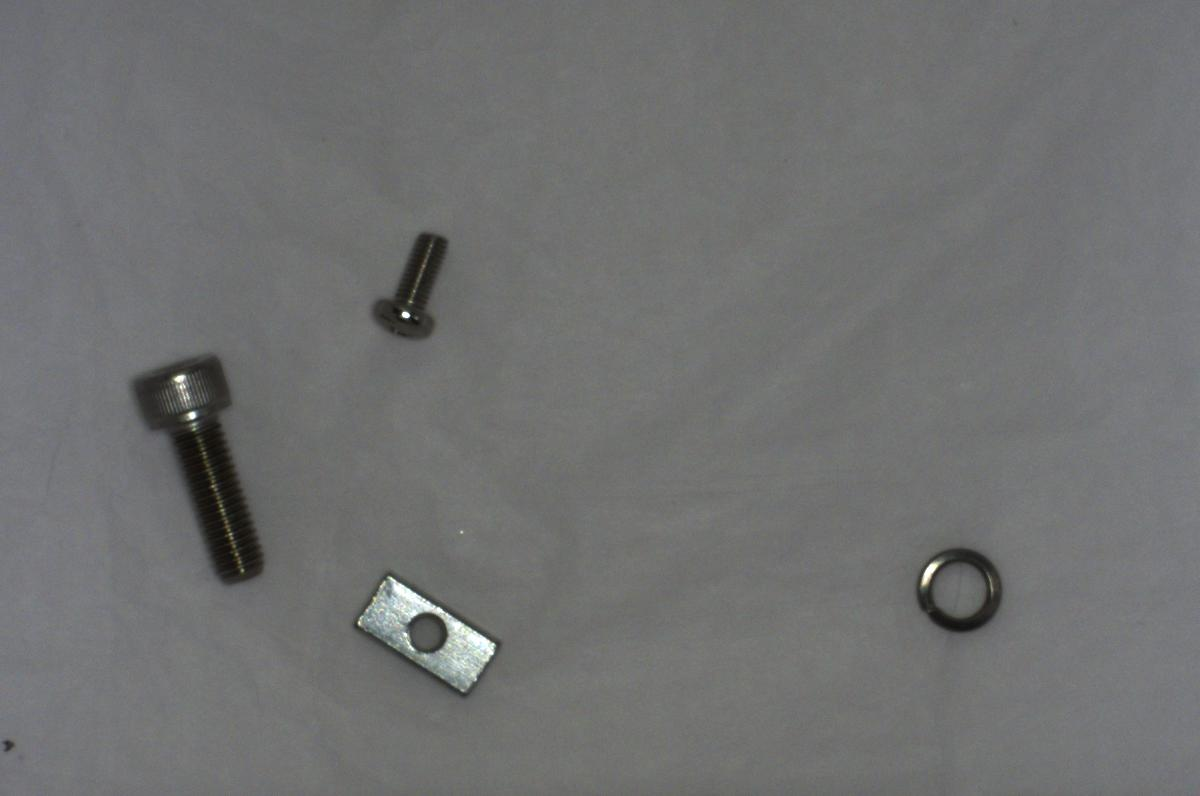Hexagon screw: (120, 341, 266, 589)
Rectangular nut: (344, 566, 498, 705)
Round head screw: (366, 225, 461, 346)
Spring washer: (905, 539, 1011, 638)
